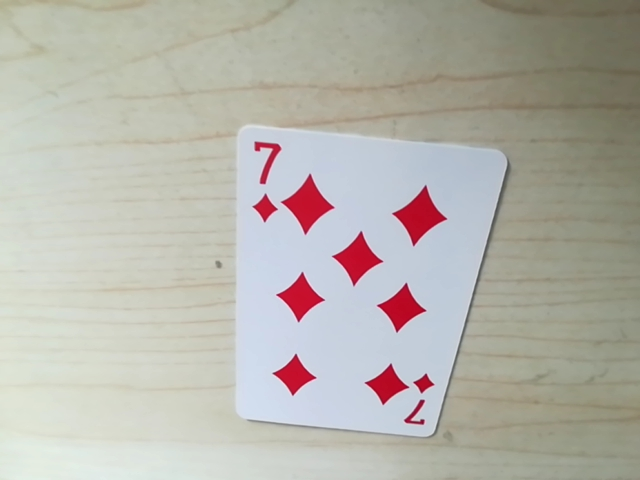fk 7: (404, 377, 438, 438), (248, 131, 288, 175)
